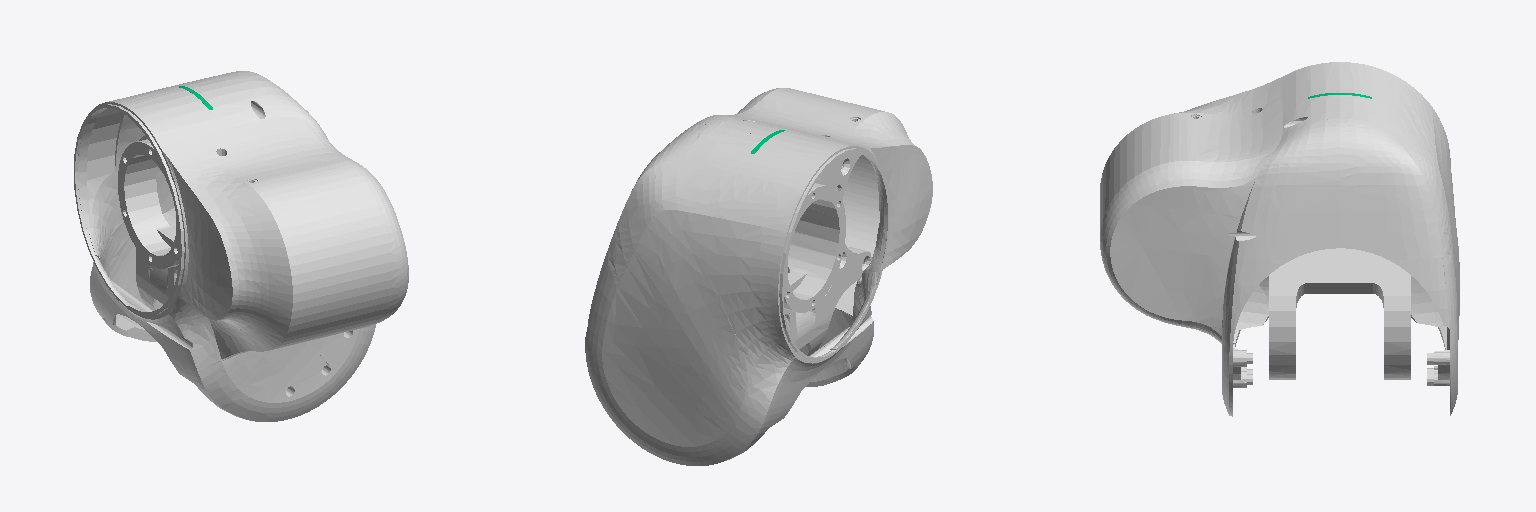
3 views of the same model, side by side, from view 1: azimuth 30°, elevation 25°; view 2: azimuth 150°, elevation 25°; view 3: azimuth 270°, elevation 25° (orthographic).
Visible parts, largest first — view 1: astribot_arm_left_link_2; view 2: astribot_arm_left_link_2; view 3: astribot_arm_left_link_2.
Part boxes in pixels (left/top/right/bottom): astribot_arm_left_link_2: left=74, top=71, right=408, bottom=421; astribot_arm_left_link_2: left=585, top=88, right=932, bottom=465; astribot_arm_left_link_2: left=1100, top=62, right=1459, bottom=416.
Size of the model in its own units: 0.1042 by 0.1495 by 0.1654.